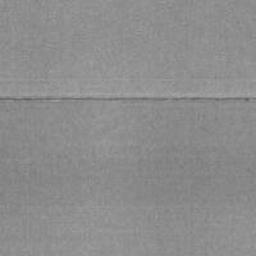Welding line: (0, 95, 256, 102)
